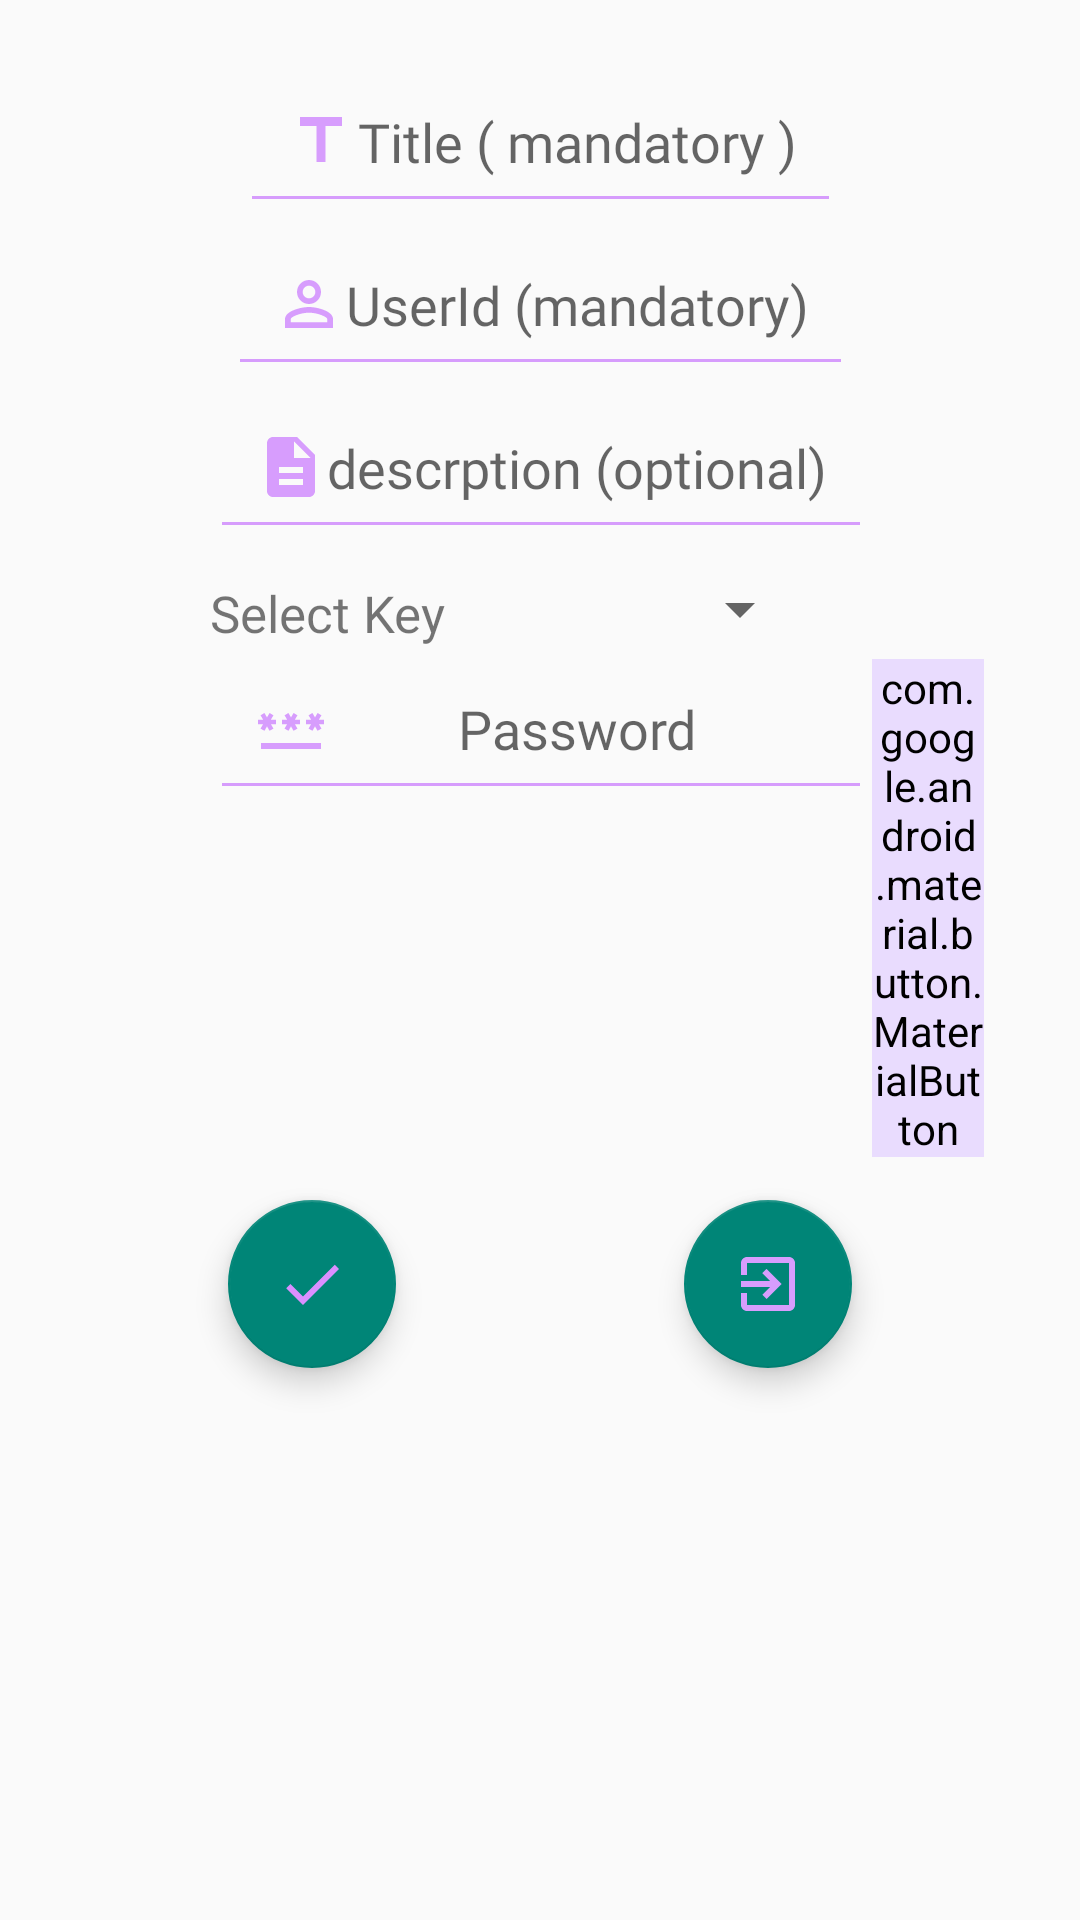

Screen size 1080px×1920px. Icon name, then its center in pixels as (x,y):
done: (312,1284)
exit to app: (768,1284)
